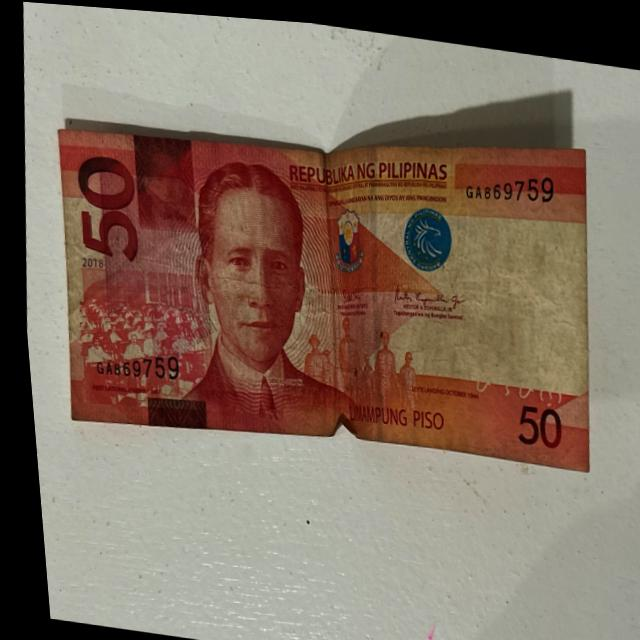concealed_value: (124, 133, 198, 229)
security_thread: (342, 139, 402, 434)
see_through_mark: (462, 361, 564, 402)
serial_number: (455, 150, 560, 213), (85, 333, 175, 397)
value: (63, 138, 144, 279)
